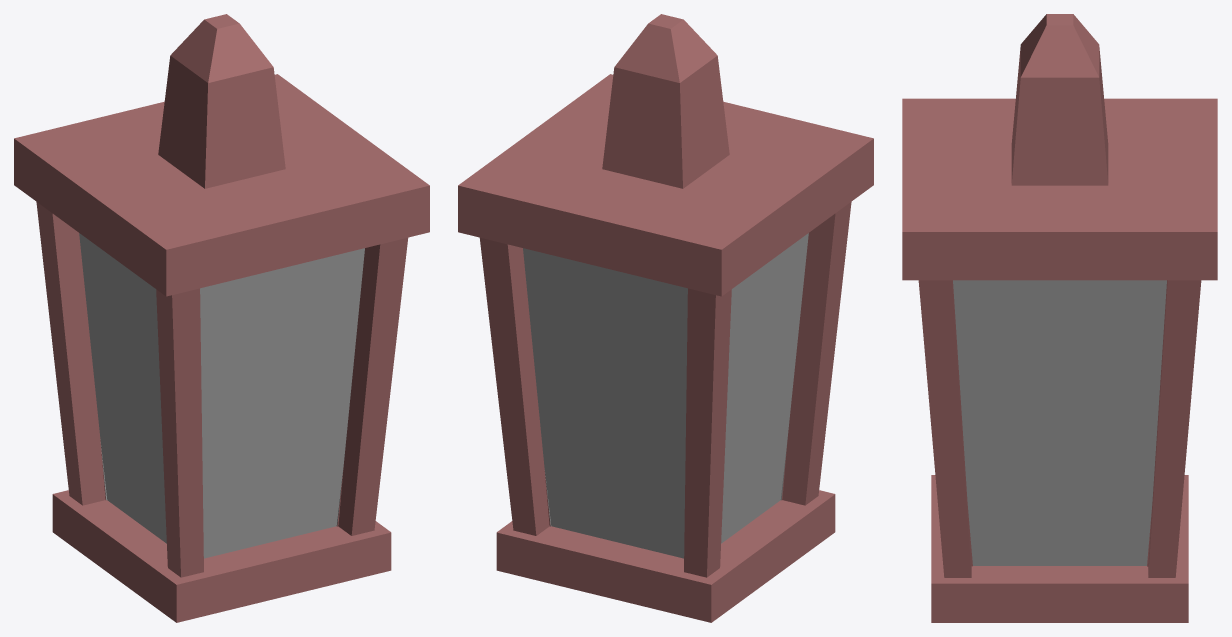
The model's file is Lamp.fbx.
3 renders of one model, left to right at view 1: azimuth 30°, elevation 25°; view 2: azimuth 150°, elevation 25°; view 3: azimuth 270°, elevation 25°, orthographic. The views are drawn at different scales.
Visible parts, largest first — view 1: polySurface3; view 2: polySurface3; view 3: polySurface3.
Part boxes in pixels (box(x1,y1,x2,y2)): polySurface3: box(14, 14, 429, 622); polySurface3: box(458, 14, 873, 622); polySurface3: box(902, 14, 1217, 622).
Size of the model in its own units: 24.2 by 46.46 by 24.2.
